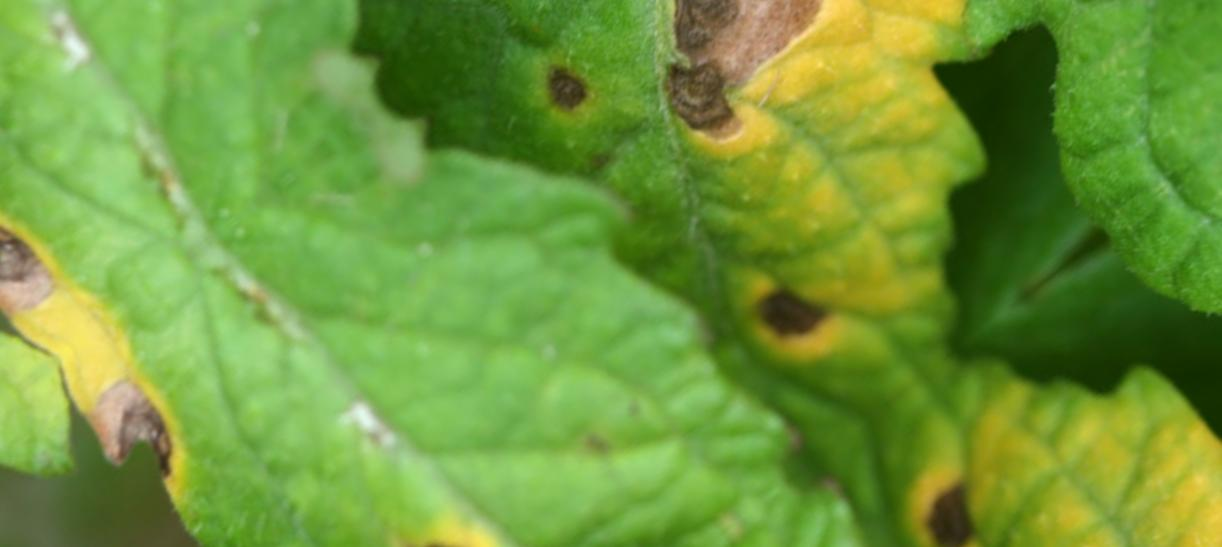Tomato leaf late blight: (336, 0, 1222, 547), (0, 5, 847, 547)
